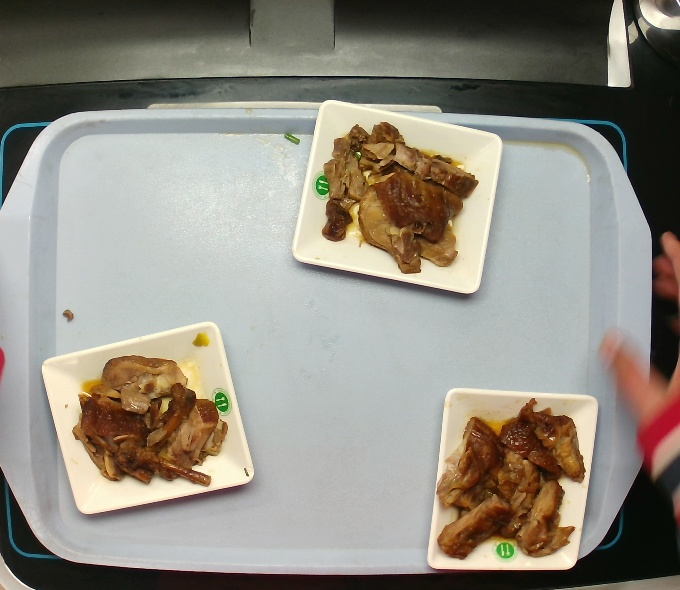wcq-YaRou: (442, 398, 581, 563), (71, 345, 231, 487), (319, 122, 473, 261)
